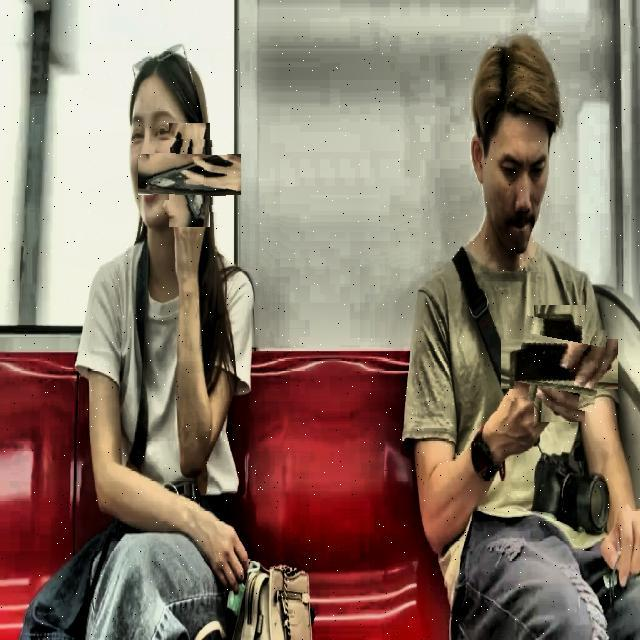Phone: (514, 318, 604, 408), (152, 138, 226, 212)
